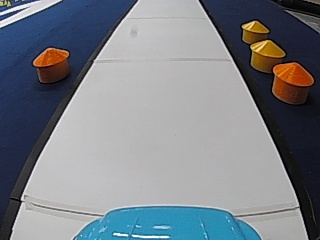granary: (269, 59, 315, 104), (30, 45, 70, 83), (248, 38, 286, 71), (238, 18, 269, 44)
